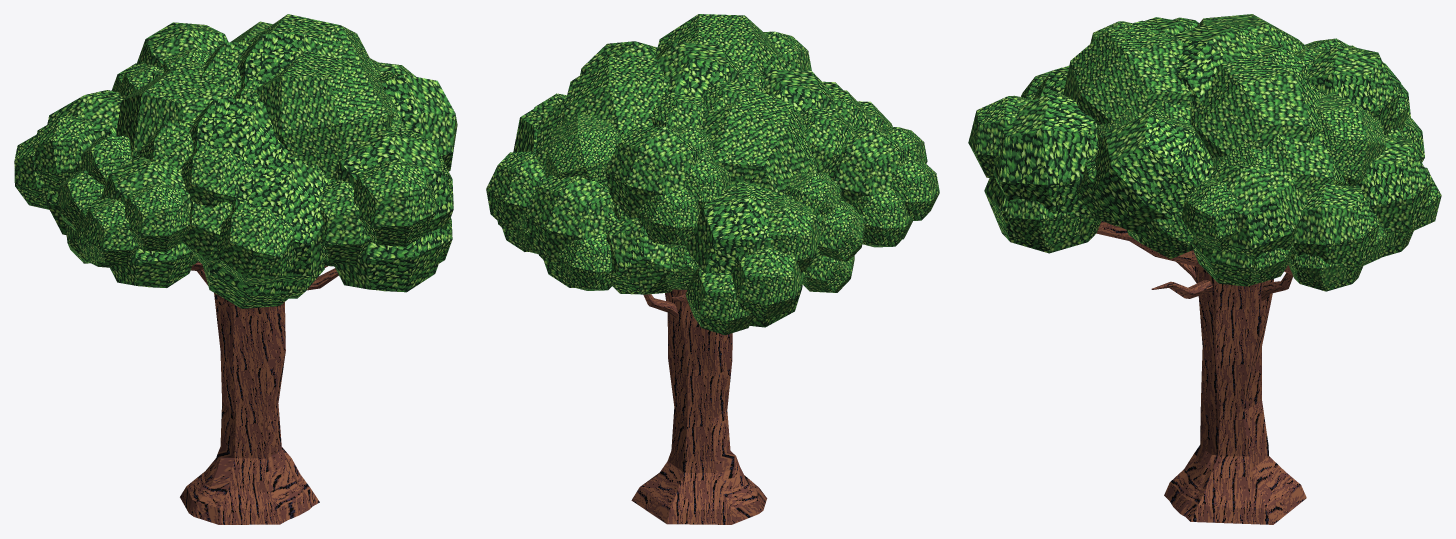
Rendered from arvore_amazonia blender.fbx.
3 views of the same model, side by side, from view 1: azimuth 30°, elevation 25°; view 2: azimuth 150°, elevation 25°; view 3: azimuth 270°, elevation 25° (orthographic). The views are drawn at different scales.
Visible parts, largest first — view 1: Cube.009; view 2: Cube.009; view 3: Cube.009.
Boxes of the visible parts, x1=… form: Cube.009: x1=14, y1=14, x2=457, y2=524; Cube.009: x1=486, y1=14, x2=939, y2=524; Cube.009: x1=968, y1=14, x2=1441, y2=524.
Size of the model in its own units: 3199 by 3629 by 3270.
2 materials, 2 textured.
